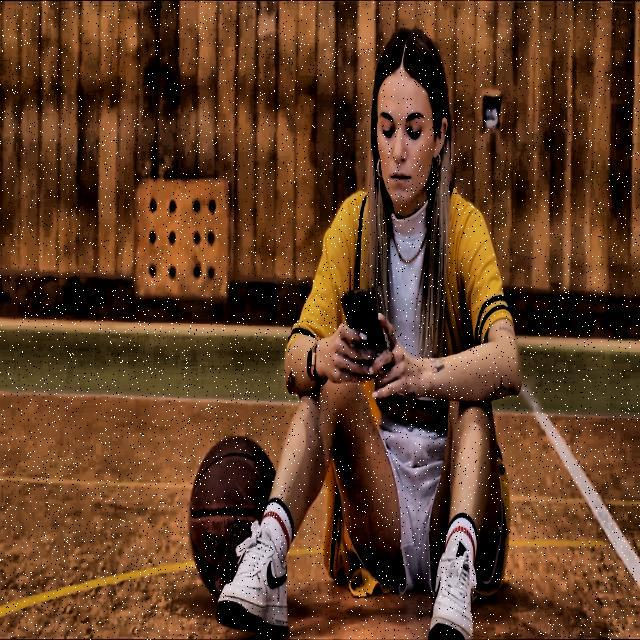Phone: (342, 287, 391, 382)
